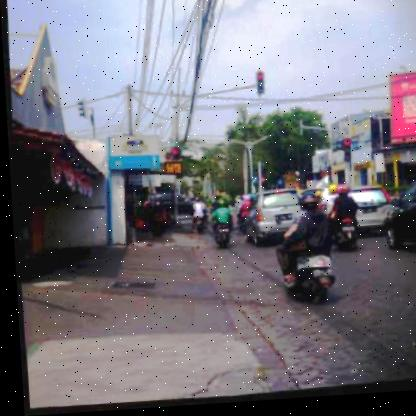Traffic Light -Red-: (339, 145, 351, 169), (253, 77, 265, 100)
